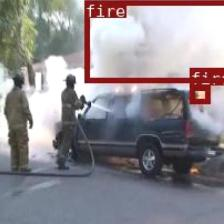fire: (83, 0, 224, 81), (189, 85, 209, 103)
